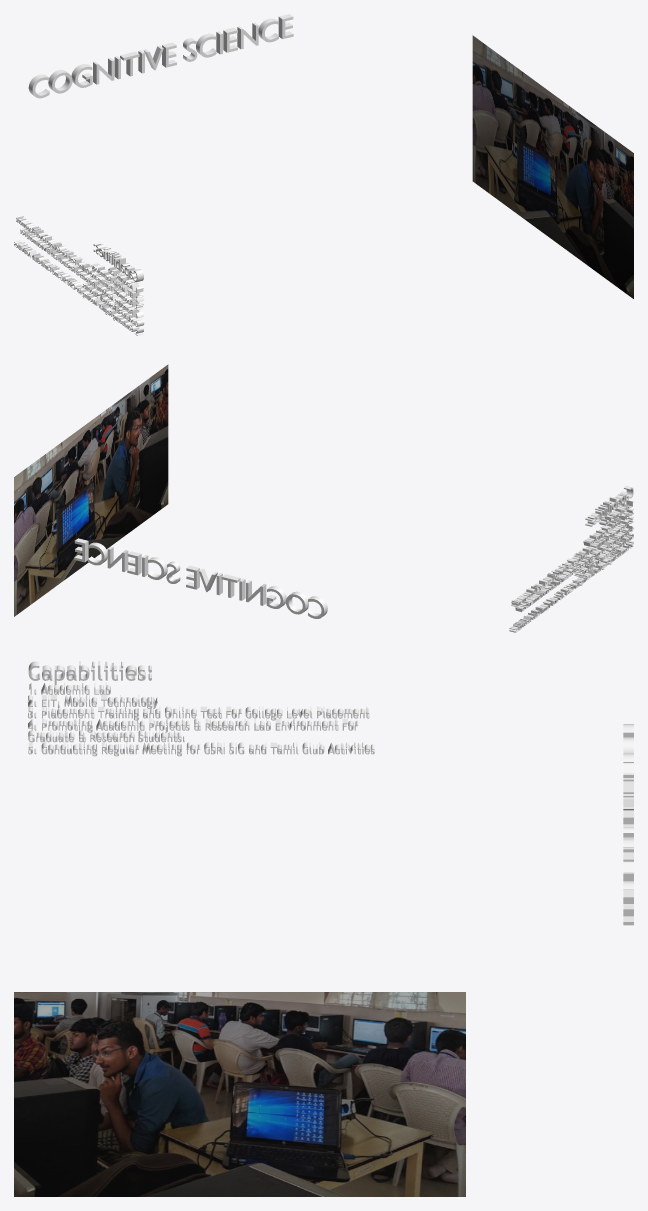
The model's file is cog_science_v3.glb.
The picture shows the model from 3 angles, top to bottom: view 1: azimuth 30°, elevation 25°; view 2: azimuth 150°, elevation 25°; view 3: azimuth 270°, elevation 25°; orthographic projection. The views are drawn at different scales.
Parts seen in each view (by area): view 1: Plane, mesh_id32.001, mesh_id54.001, mesh_id51.001, mesh_id52.001, mesh_id48.001, mesh_id53.001, mesh_id50.001; view 2: Plane, mesh_id32.001, mesh_id54.001, mesh_id51.001, mesh_id52.001, mesh_id48.001, mesh_id53.001, mesh_id50.001; view 3: Plane, mesh_id54.001, mesh_id51.001, mesh_id52.001, mesh_id32.001, mesh_id48.001, mesh_id53.001, mesh_id50.001.
Part boxes in pixels (left/top/right/bottom): Plane: left=472, top=35, right=633, bottom=298; mesh_id32.001: left=28, top=14, right=293, bottom=98; mesh_id54.001: left=14, top=240, right=143, bottom=335; mesh_id51.001: left=16, top=215, right=143, bottom=310; mesh_id52.001: left=20, top=228, right=143, bottom=318; mesh_id48.001: left=93, top=242, right=143, bottom=282; mesh_id53.001: left=82, top=283, right=144, bottom=326; mesh_id50.001: left=91, top=263, right=144, bottom=302; Plane: left=14, top=364, right=168, bottom=616; mesh_id32.001: left=74, top=538, right=327, bottom=618; mesh_id54.001: left=509, top=540, right=633, bottom=632; mesh_id51.001: left=511, top=516, right=633, bottom=607; mesh_id52.001: left=515, top=525, right=633, bottom=611; mesh_id48.001: left=585, top=486, right=633, bottom=526; mesh_id53.001: left=574, top=533, right=633, bottom=576; mesh_id50.001: left=583, top=508, right=633, bottom=546; Plane: left=14, top=992, right=465, bottom=1196; mesh_id54.001: left=28, top=742, right=374, bottom=756; mesh_id51.001: left=28, top=706, right=369, bottom=720; mesh_id52.001: left=28, top=718, right=358, bottom=732; mesh_id32.001: left=623, top=724, right=633, bottom=925; mesh_id48.001: left=28, top=661, right=151, bottom=684; mesh_id53.001: left=28, top=730, right=184, bottom=742; mesh_id50.001: left=28, top=695, right=157, bottom=708.
Size of the model in its own units: 1.41 by 0.4209 by 1.1.
Materials: 9 (1 with a texture image).
